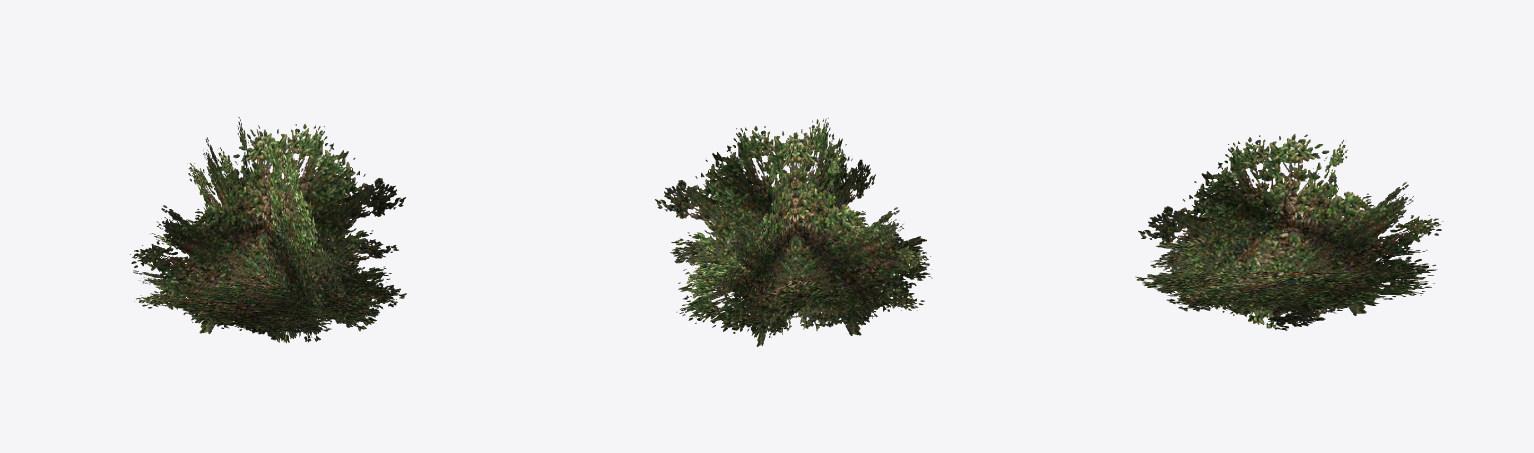
Rendered from shrb_leafbush_sm_l1.fbx.
3 renders of one model, left to right at view 1: azimuth 30°, elevation 25°; view 2: azimuth 150°, elevation 25°; view 3: azimuth 270°, elevation 25°, orthographic. The views are drawn at different scales.
Parts seen in each view (by area): view 1: mesh_node; view 2: mesh_node; view 3: mesh_node.
Boxes of the visible parts, x1,y1,x2,y2 form: mesh_node: [130, 117, 406, 343]; mesh_node: [655, 118, 932, 346]; mesh_node: [1135, 134, 1443, 330].
Size of the model in its own units: 1.49 by 1.49 by 2.09.
1 material, 1 textured.
